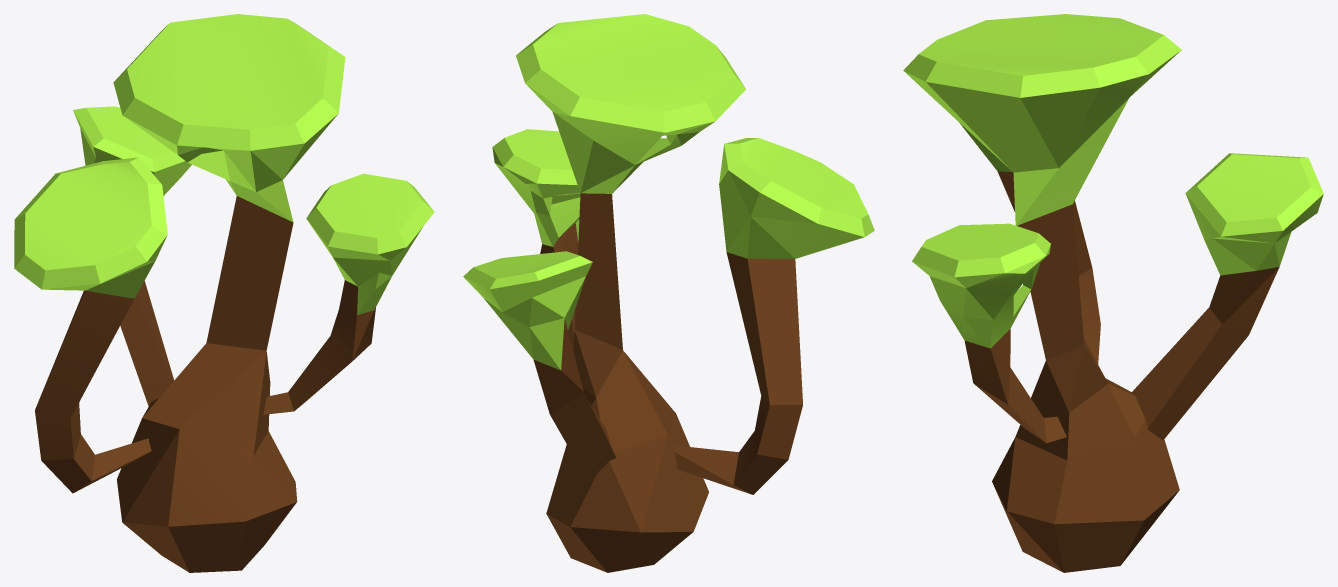
The model's file is MF_Weed_2.FBX.
3 views of the same model, side by side, from view 1: azimuth 30°, elevation 25°; view 2: azimuth 150°, elevation 25°; view 3: azimuth 270°, elevation 25° (orthographic). The views are drawn at different scales.
Parts seen in each view (by area): view 1: Weed_2; view 2: Weed_2; view 3: Weed_2.
Part boxes in pixels (<box>): Weed_2: <box>14,14,434,572</box>; Weed_2: <box>463,14,874,572</box>; Weed_2: <box>903,14,1323,572</box>.
Bounding box in the file's own units: 1.08 × 0.9715 × 1.34.
